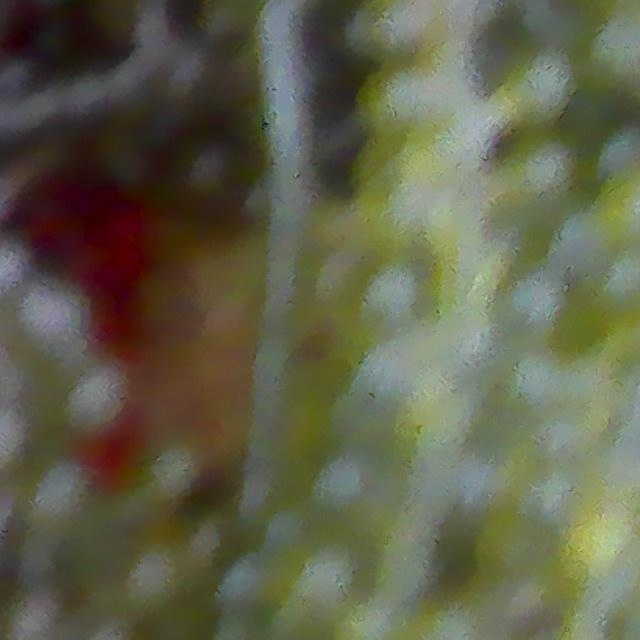SeaGrape: (8, 594, 66, 640)
